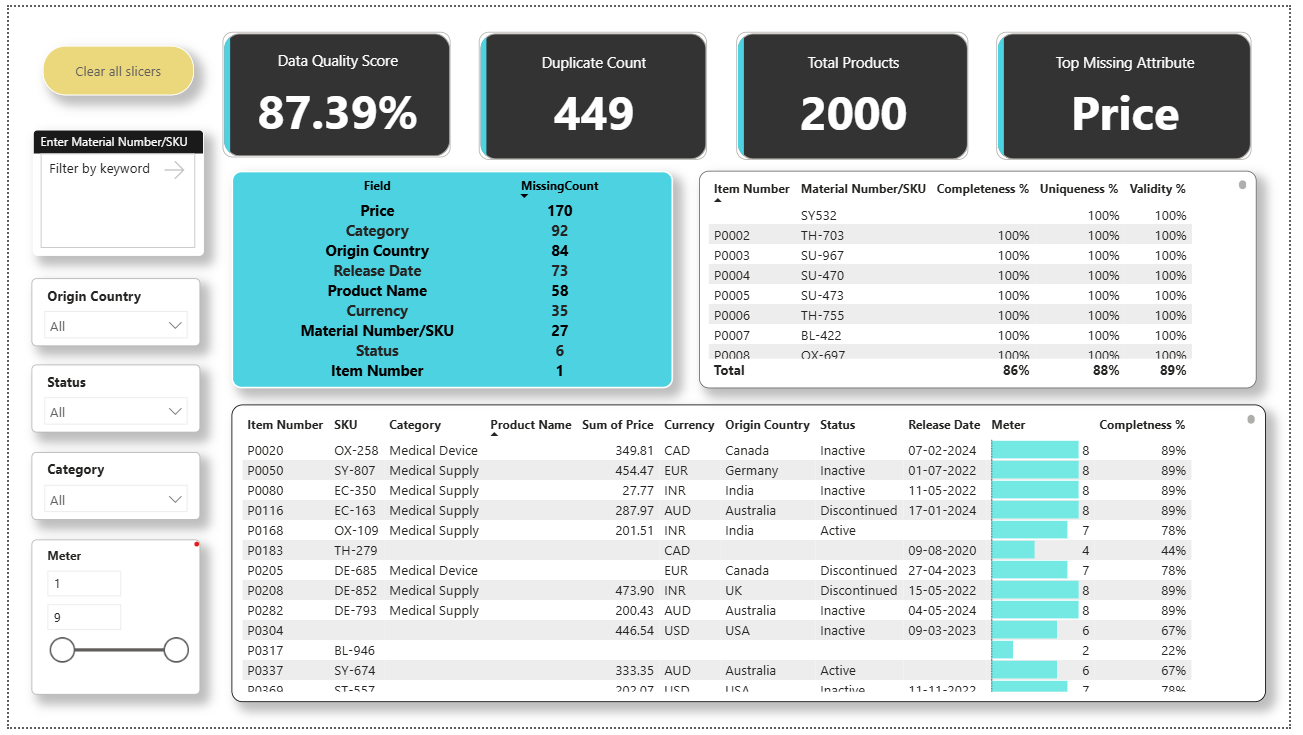

Layout of this report page (visuals, bound fields, positions):
{"tool":"powerbi","page":{"name":"Page 1","canvas":[1280,720],"ordinal":0},"visuals":[{"type":"tableEx","fields":{"Values":["Data.Item Number","Data.Material Number/SKU","Data.Category","Data.Product Name","Sum(Data.Price)","Data.Currency","Data.Origin Country","Data.Status","Data.Release Date","Sum(Data.Completeness Meter)","Sum(Data.Completness %)"]},"box":[222.5,396.9,1034.1,297.2],"z":0},{"type":"slicer","fields":{"Values":["Data.Status"]},"box":[22.4,358.1,169.1,67.6],"z":1000},{"type":"slicer","fields":{"Values":["Data.Origin Country"]},"box":[22.4,270.9,169.1,67.6],"z":2000},{"type":"slicer","fields":{"Values":["Data.Category"]},"box":[22.4,445.3,169.1,67.6],"z":3000},{"type":"slicer","fields":{"Values":["Data.Completeness Meter"]},"box":[22.4,532.5,169.1,154.8],"z":4000},{"type":"cardVisual","fields":{"Data":["Measure Table.Data Quality Score"]},"box":[208.2,19.6,238.5,135.3],"z":5000},{"type":"cardVisual","fields":{"Data":["Data Table.Duplicate Count"]},"box":[465.1,19.6,238.5,138.8],"z":5001},{"type":"cardVisual","fields":{"Data":["Measure Table.Total Products"]},"box":[722,19.6,242.1,138.8],"z":5002},{"type":"tableEx","fields":{"Values":["Data.Item Number","Data.Material Number/SKU","Measure Table.Completeness %","Measure Table.Uniqueness %","Measure Table.Validity %"]},"box":[690,163.8,557.5,217.5],"z":5003},{"type":"cardVisual","fields":{"Data":["Min(Top Missing Feild.Field)"]},"box":[982.4,19.6,265.2,138.8],"z":5004},{"type":"tableEx","fields":{"Values":["Missing Field Summary.Field","Missing Field Summary.MissingCount"]},"box":[222.5,163.8,441.2,217.5],"z":5005},{"type":"textSlicer","title":"Enter Material Number/SKU","fields":{"Values":["Data.Material Number/SKU"]},"box":[23.1,122.8,170.9,126.4],"z":5006},{"type":"actionButton","box":[33.8,39.2,151.3,49.8],"z":5007}]}

Visuals, with their boxes in screenshot pixels (x1, y1, x2, y2), scaled from the page's 1280x720 canvas onto the 1303x735 screenshot:
tableEx - Data.Item Number x Data.Material Number/SKU: [226,405,1279,709]
slicer - Data.Status: [23,366,195,435]
slicer - Data.Origin Country: [23,277,195,346]
slicer - Data.Category: [23,455,195,524]
slicer - Data.Completeness Meter: [23,544,195,702]
cardVisual - Measure Table.Data Quality Score: [212,20,455,158]
cardVisual - Data Table.Duplicate Count: [473,20,716,162]
cardVisual - Measure Table.Total Products: [735,20,981,162]
tableEx - Data.Item Number x Data.Material Number/SKU: [702,167,1270,389]
cardVisual - Min(Top Missing Feild.Field): [1000,20,1270,162]
tableEx - Missing Field Summary.Field x Missing Field Summary.MissingCount: [226,167,676,389]
"Enter Material Number/SKU" textSlicer: [24,125,197,254]
actionButton: [34,40,188,91]
